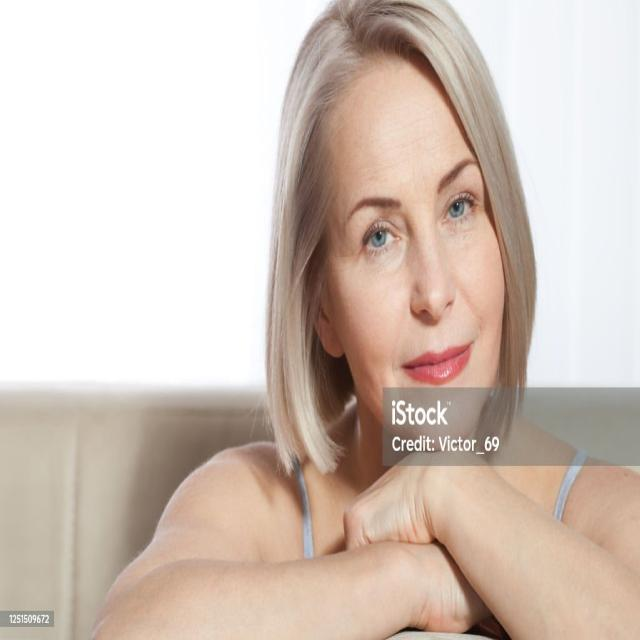Dry-Skin: (340, 86, 446, 210), (453, 245, 507, 335)
